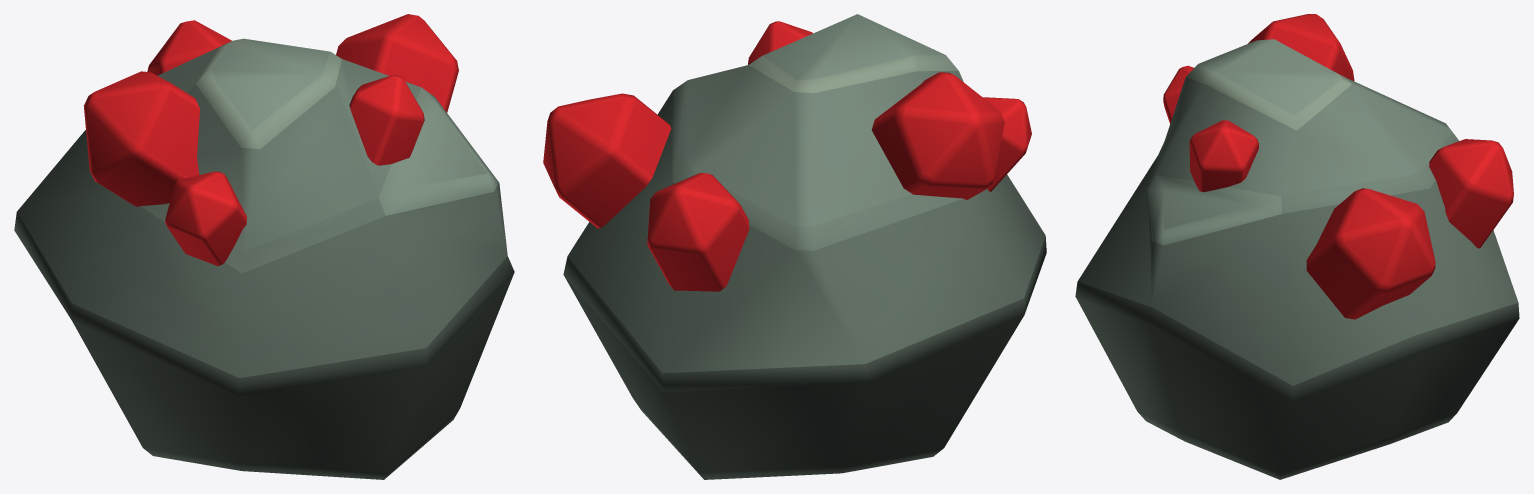
File: ore_christal_ruby_M.fbx
3 views of the same model, side by side, from view 1: azimuth 30°, elevation 25°; view 2: azimuth 150°, elevation 25°; view 3: azimuth 270°, elevation 25° (orthographic). The views are drawn at different scales.
Visible parts, largest first — view 1: ore_christal_ruby_M; view 2: ore_christal_ruby_M; view 3: ore_christal_ruby_M.
Part boxes in pixels (<box>): ore_christal_ruby_M: <box>14,14,514,479</box>; ore_christal_ruby_M: <box>543,14,1046,479</box>; ore_christal_ruby_M: <box>1075,14,1519,479</box>.
Size of the model in its own units: 139 by 132 by 139.
Materials: 1 (1 with a texture image).
